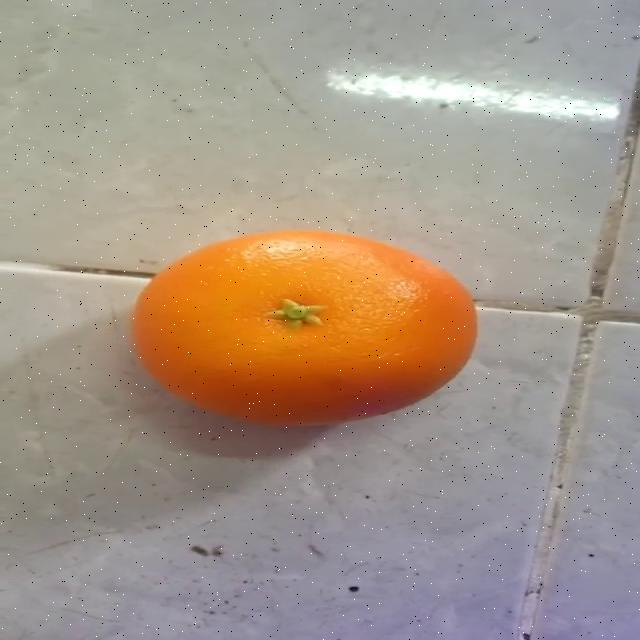Orange: (130, 227, 478, 427)
